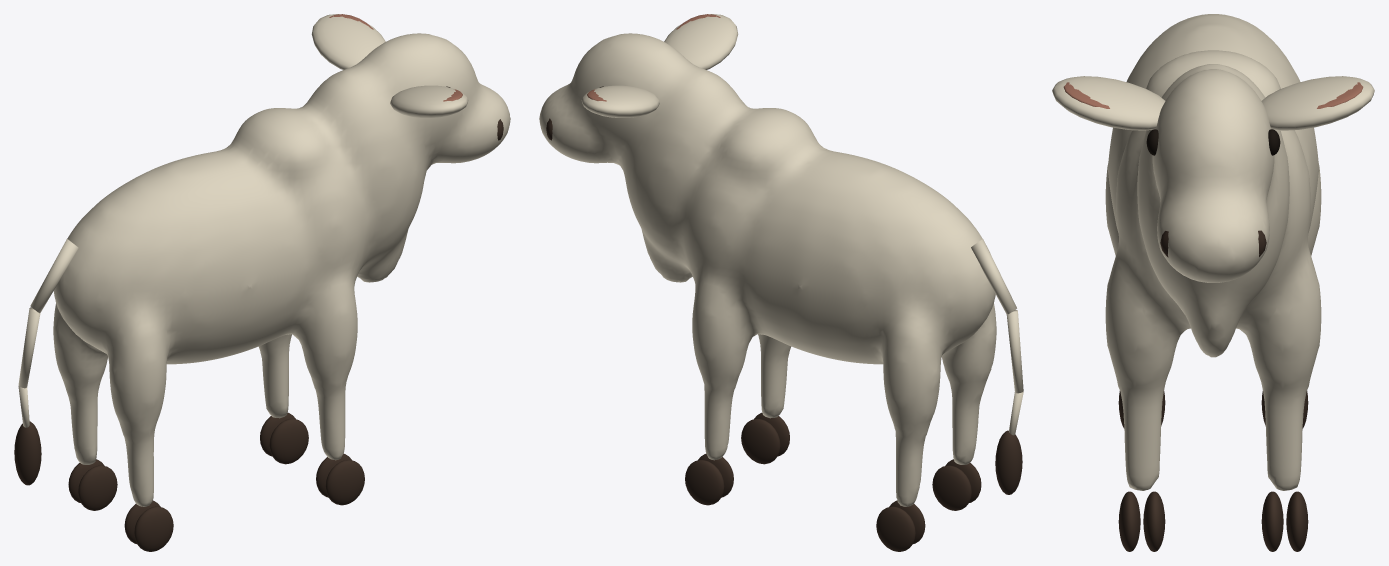
The model's file is calf.glb.
3 renders of one model, left to right at view 1: azimuth 30°, elevation 25°; view 2: azimuth 150°, elevation 25°; view 3: azimuth 270°, elevation 25°, orthographic. The views are drawn at different scales.
Parts seen in each view (by area): view 1: Calf - Cream body.001, Calf - Cream Ear.003, Calf - Cream Ear.002, Calf - Cream Cloven hoof.014, Calf - Cream Cloven hoof.012, Calf - Cream Cloven hoof.008, Calf - Cream Cloven hoof.010, Calf - Cream Tail tuft.001, Calf - Cream Tail.003, Calf - Cream Tail.004; view 2: Calf - Cream body.001, Calf - Cream Ear.002, Calf - Cream Ear.003, Calf - Cream Cloven hoof.011, Calf - Cream Cloven hoof.009, Calf - Cream Cloven hoof.015, Calf - Cream Cloven hoof.013, Calf - Cream Tail tuft.001, Calf - Cream Tail.003, Calf - Cream Tail.004; view 3: Calf - Cream body.001, Calf - Cream Ear.002, Calf - Cream Ear.003, Calf - Cream Cloven hoof.011, Calf - Cream Cloven hoof.014, Calf - Cream Cloven hoof.010, Calf - Cream Cloven hoof.015.
Boxes of the visible parts, x1,y1,x2,y2 form: Calf - Cream body.001: (53,33,510,506); Calf - Cream Ear.003: (311,14,385,69); Calf - Cream Ear.002: (390,85,468,117); Calf - Cream Cloven hoof.014: (269,419,308,464); Calf - Cream Cloven hoof.012: (78,465,117,510); Calf - Cream Cloven hoof.008: (134,506,173,551); Calf - Cream Cloven hoof.010: (325,460,364,505); Calf - Cream Tail tuft.001: (14,421,41,485); Calf - Cream Tail.003: (30,239,78,313); Calf - Cream Tail.004: (18,307,40,388); Calf - Cream body.001: (539,33,996,506); Calf - Cream Ear.002: (664,14,738,69); Calf - Cream Ear.003: (581,85,659,117); Calf - Cream Cloven hoof.011: (741,419,780,464); Calf - Cream Cloven hoof.009: (932,465,971,510); Calf - Cream Cloven hoof.015: (685,460,724,505); Calf - Cream Cloven hoof.013: (876,506,915,551); Calf - Cream Tail tuft.001: (995,430,1022,494); Calf - Cream Tail.003: (971,239,1016,314); Calf - Cream Tail.004: (1006,310,1023,393); Calf - Cream body.001: (1105,14,1321,490); Calf - Cream Ear.002: (1052,76,1165,130); Calf - Cream Ear.003: (1261,76,1374,130); Calf - Cream Cloven hoof.011: (1143,491,1165,551); Calf - Cream Cloven hoof.014: (1261,491,1283,551); Calf - Cream Cloven hoof.010: (1118,491,1140,551); Calf - Cream Cloven hoof.015: (1286,491,1308,551).
Bounding box in the file's own units: 1.32 × 1.09 × 0.6019.
